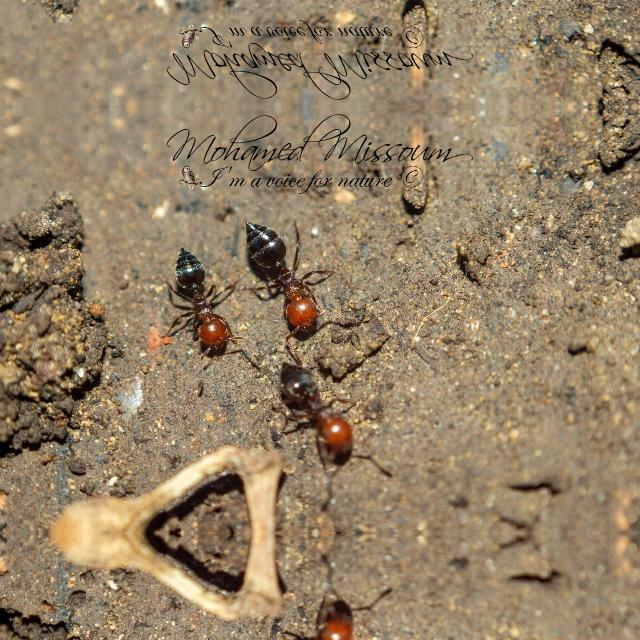Crematogaster: (155, 231, 245, 363), (245, 219, 338, 327), (276, 351, 366, 454), (275, 611, 366, 640)
